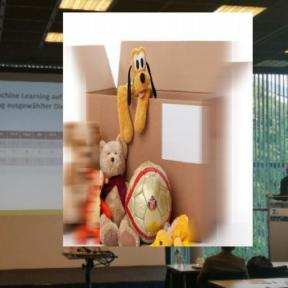box: (60, 9, 256, 251)
